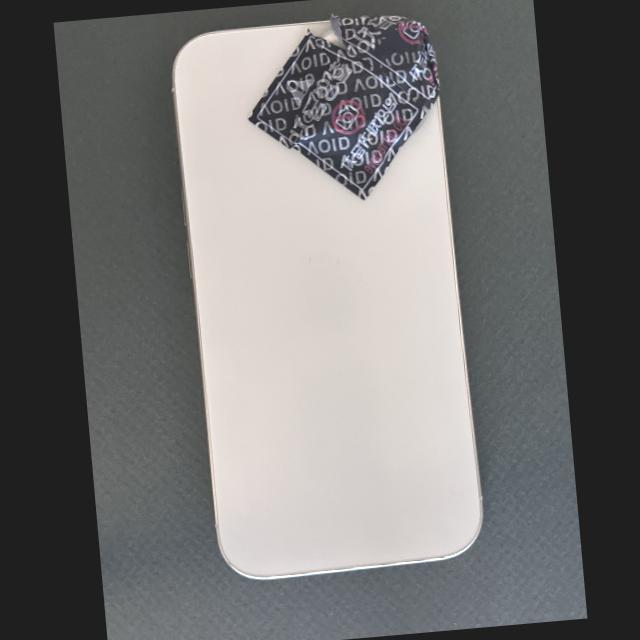phone: (172, 14, 482, 579)
sticker: (247, 28, 431, 200), (331, 14, 439, 105)
